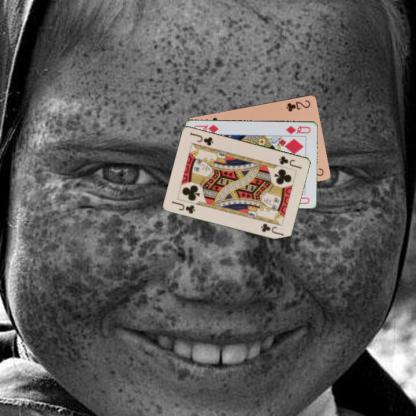2c: (284, 97, 311, 113)
Jc: (276, 153, 304, 170), (170, 198, 196, 215)
Qd: (284, 123, 312, 135)
